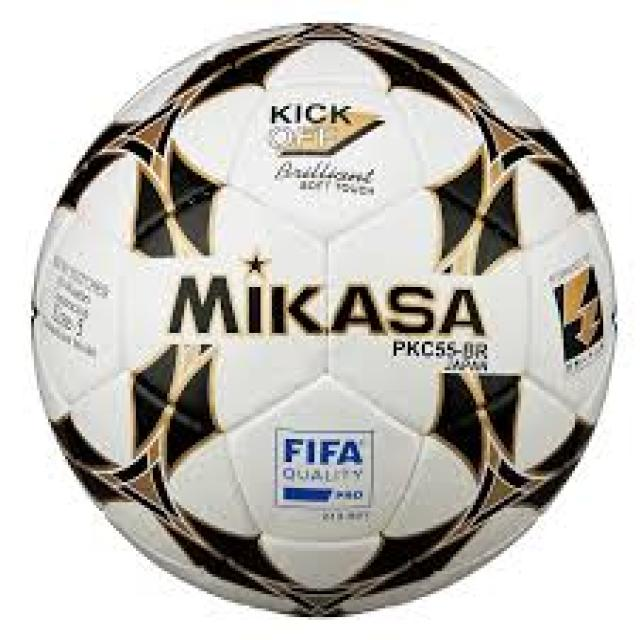football: (3, 20, 640, 631)
